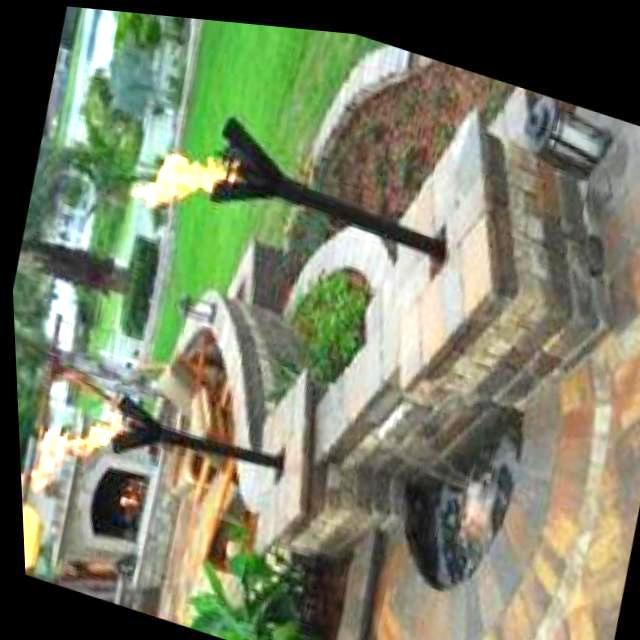fire: (14, 387, 130, 517), (110, 116, 232, 232)
